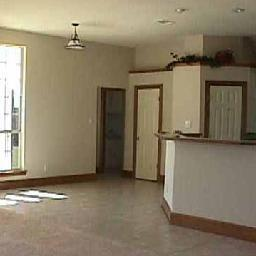Puerta: (133, 86, 162, 177), (207, 83, 244, 136)
